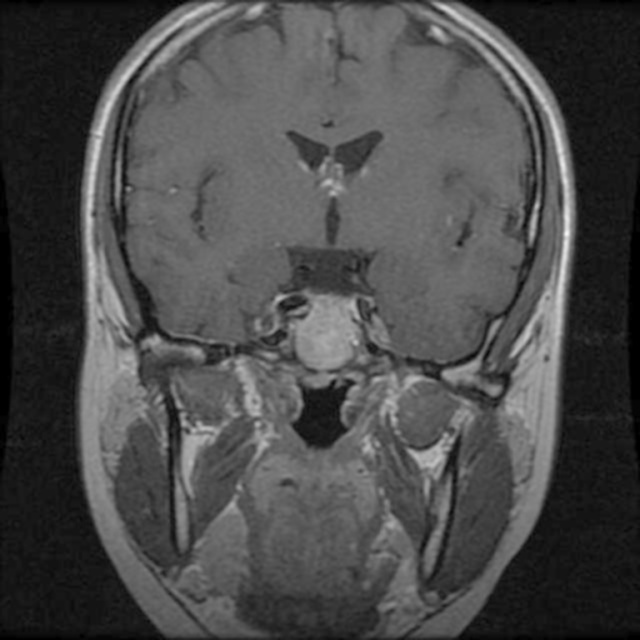no tumor: (276, 299, 376, 371)
